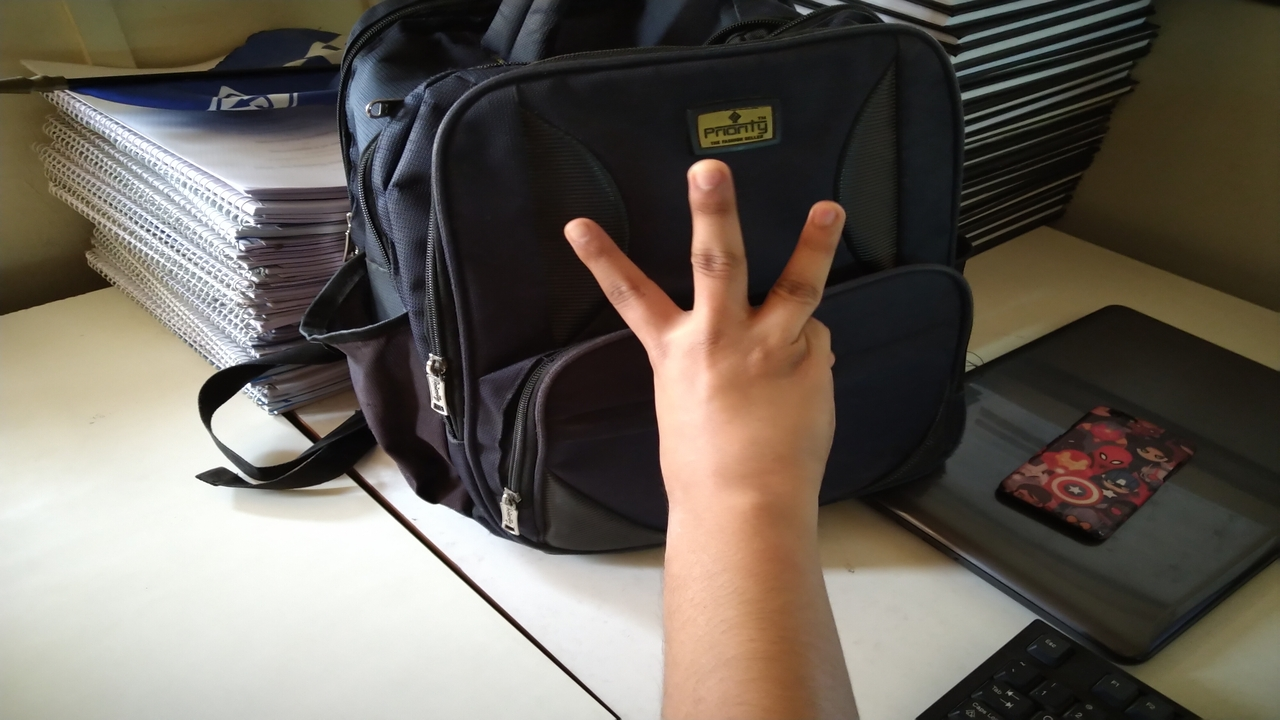fingertip: (680, 150, 744, 206), (558, 210, 622, 264), (798, 192, 852, 238)
